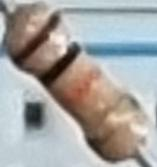Black: (42, 42, 83, 88)
Brown: (13, 10, 62, 68)
Orange: (62, 63, 105, 111)
Side-Silver: (85, 94, 141, 152)
